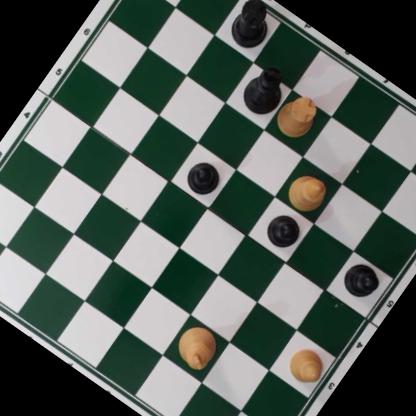black-king: (236, 59, 295, 122)
black-pawn: (337, 254, 386, 304), (180, 153, 228, 202), (260, 207, 307, 254)
black-rook: (222, 0, 283, 55)
white-bishop: (281, 166, 333, 219)
white-king: (170, 317, 227, 376)
white-pawn: (281, 339, 332, 390)
white-rook: (270, 89, 325, 145)
